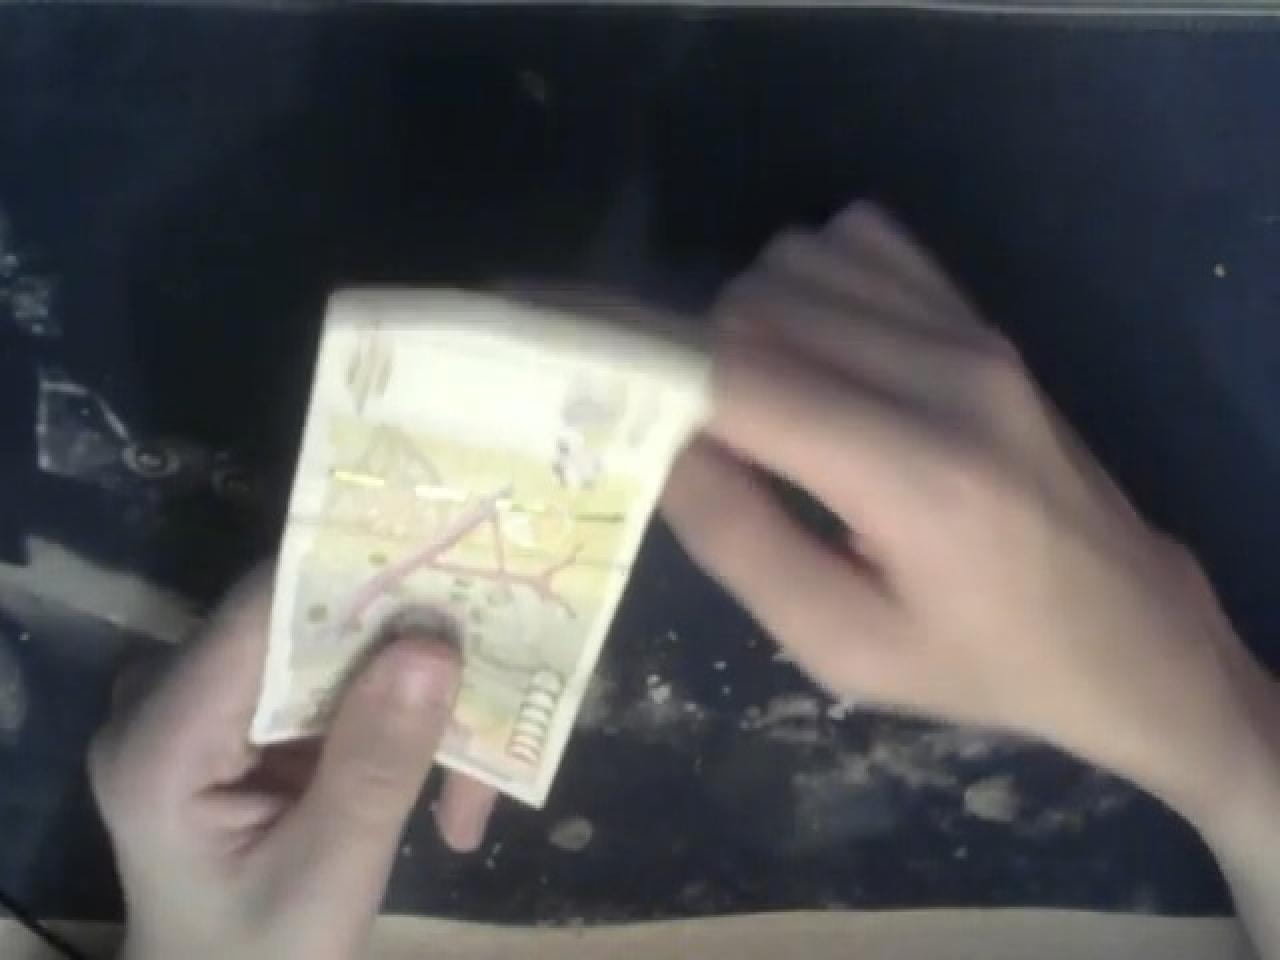10leva: (246, 277, 714, 806)
